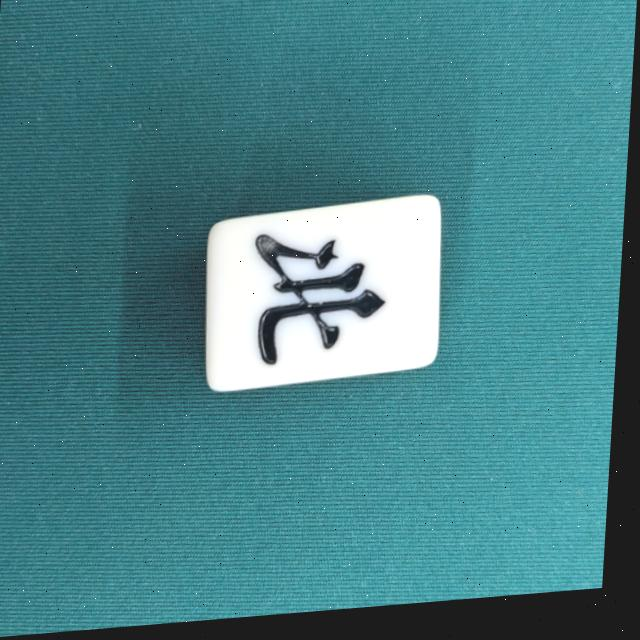kita: (202, 200, 448, 402)
